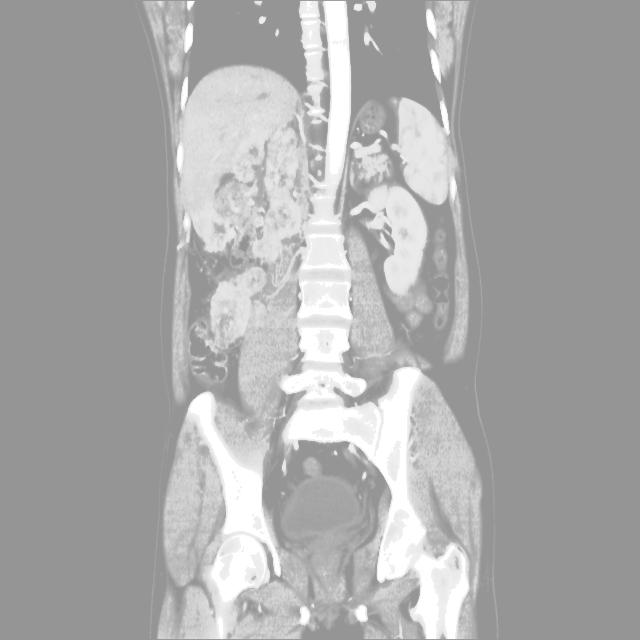TUMOR: (141, 174, 593, 458)
